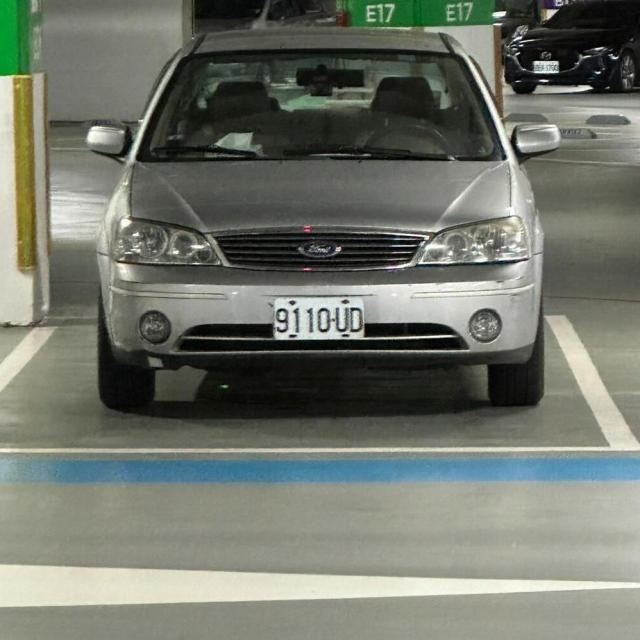W: (266, 286, 371, 350), (529, 55, 564, 75)
